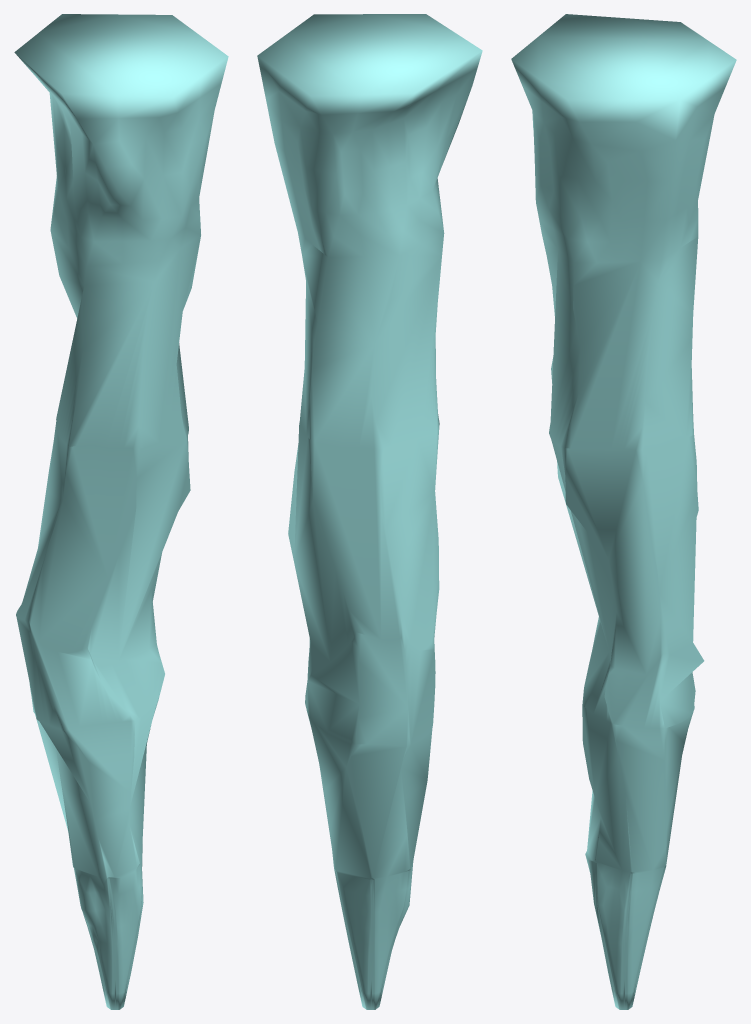
The model's file is icicle-new.glb.
3 views of the same model, side by side, from view 1: azimuth 30°, elevation 25°; view 2: azimuth 150°, elevation 25°; view 3: azimuth 270°, elevation 25° (orthographic).
Parts seen in each view (by area): view 1: Cylinder; view 2: Cylinder; view 3: Cylinder.
Boxes of the visible parts, x1,y1,x2,y2 form: Cylinder: (14,14,228,1009); Cylinder: (257,14,482,1009); Cylinder: (511,14,736,1009).
Bounding box in the file's own units: 0.1604 × 0.8687 × 0.1865.
Materials: 1 (1 with a texture image).
